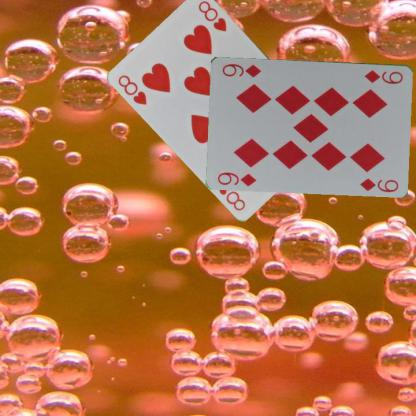8h: (115, 73, 148, 107)
9d: (215, 169, 258, 187), (362, 67, 404, 85)
